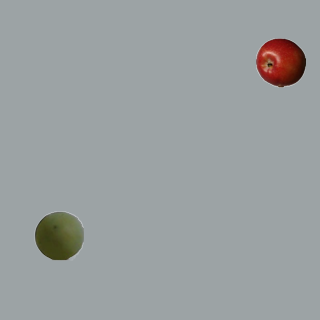Apple Braeburn: (255, 37, 305, 87)
Grape White 4: (33, 210, 83, 260)
